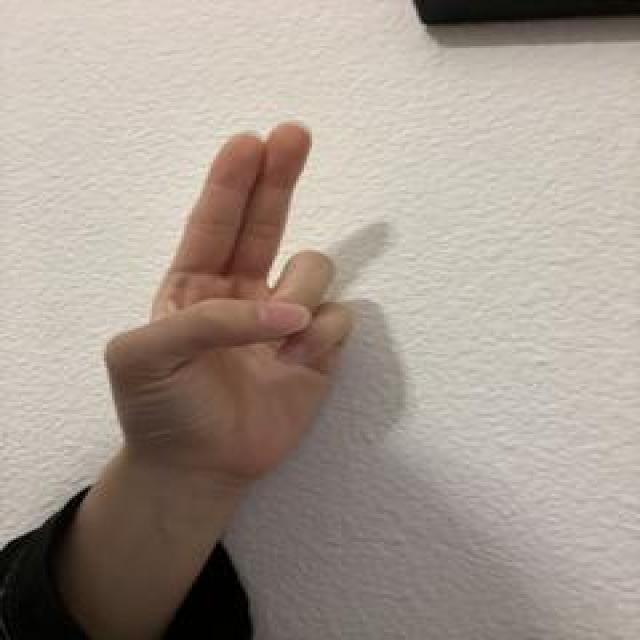U: (101, 115, 363, 483)
